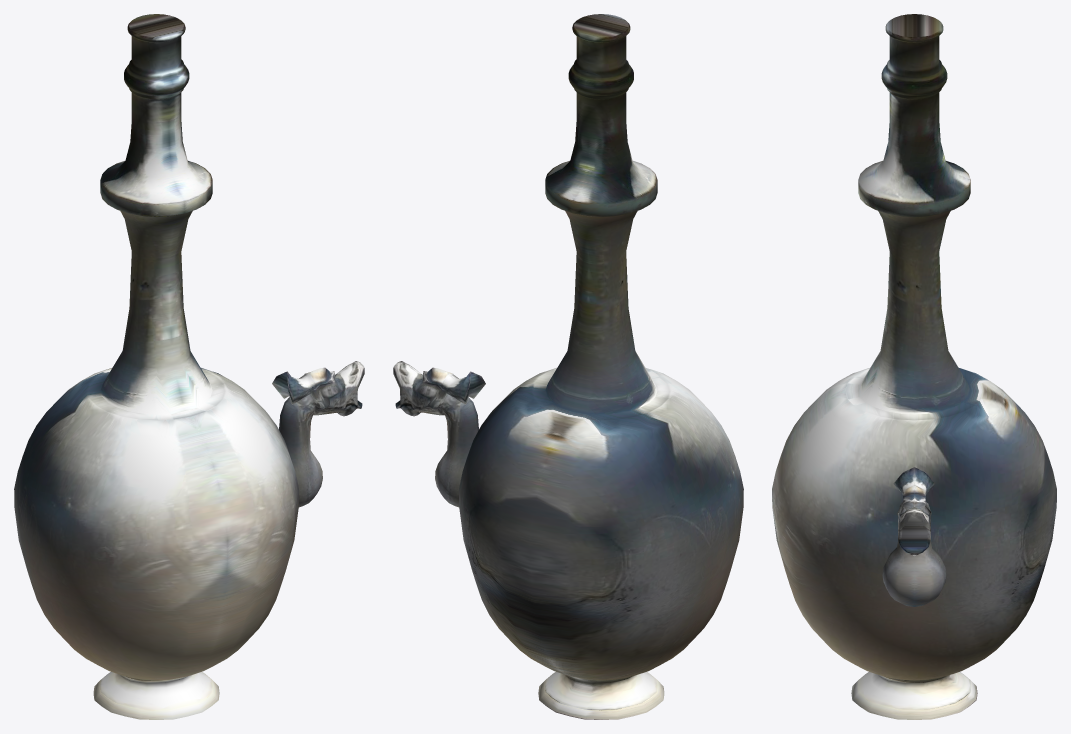
Rendered from JapaneseWaterFountain.fbx.
3 views of the same model, side by side, from view 1: azimuth 30°, elevation 25°; view 2: azimuth 150°, elevation 25°; view 3: azimuth 270°, elevation 25° (orthographic).
Visible parts, largest first — view 1: default; view 2: default; view 3: default.
Boxes of the visible parts, bbox=[...] form: default: bbox=[14, 14, 364, 719]; default: bbox=[393, 14, 743, 719]; default: bbox=[772, 14, 1056, 719].
Bounding box in the file's own units: 266 × 516 × 200.
